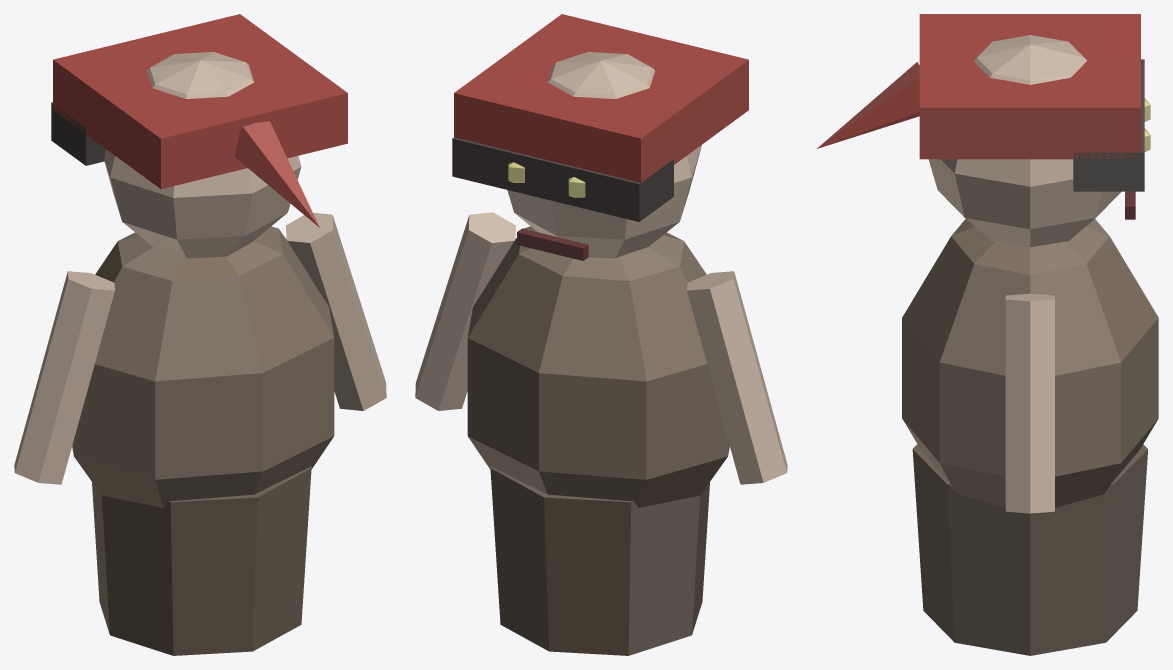
The model's file is bandit.glb.
3 renders of one model, left to right at view 1: azimuth 30°, elevation 25°; view 2: azimuth 150°, elevation 25°; view 3: azimuth 270°, elevation 25°, orthographic. The views are drawn at different scales.
Visible parts, largest first — view 1: bandit2; view 2: bandit2; view 3: bandit2.
Boxes of the visible parts, <box> form: bandit2: <box>14,14,386,655</box>; bandit2: <box>415,14,787,655</box>; bandit2: <box>817,14,1158,655</box>.
Bounding box in the file's own units: 1.23 × 1.75 × 0.9595.
